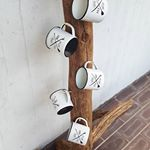cups: (42, 21, 80, 59), (73, 59, 109, 92), (65, 116, 97, 147), (70, 1, 112, 24), (47, 87, 75, 116)
